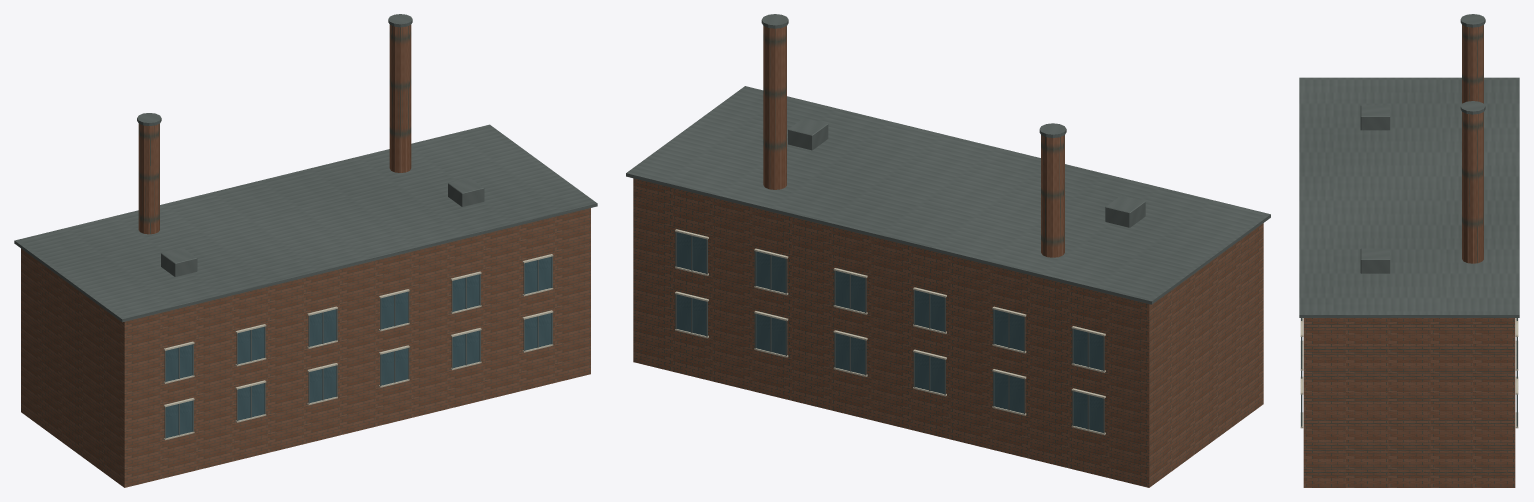
File: IndustrialWorks.fbx
The picture shows the model from 3 angles, left to right: view 1: azimuth 30°, elevation 25°; view 2: azimuth 150°, elevation 25°; view 3: azimuth 270°, elevation 25°; orthographic projection. The views are drawn at different scales.
Parts seen in each view (by area): view 1: IndustrialWorks; view 2: IndustrialWorks; view 3: IndustrialWorks.
Boxes of the visible parts, left/top/right/bottom form: IndustrialWorks: left=14, top=14, right=597, bottom=487; IndustrialWorks: left=626, top=14, right=1270, bottom=487; IndustrialWorks: left=1299, top=14, right=1519, bottom=487.
Size of the model in its own units: 2650 by 1708 by 1040.
